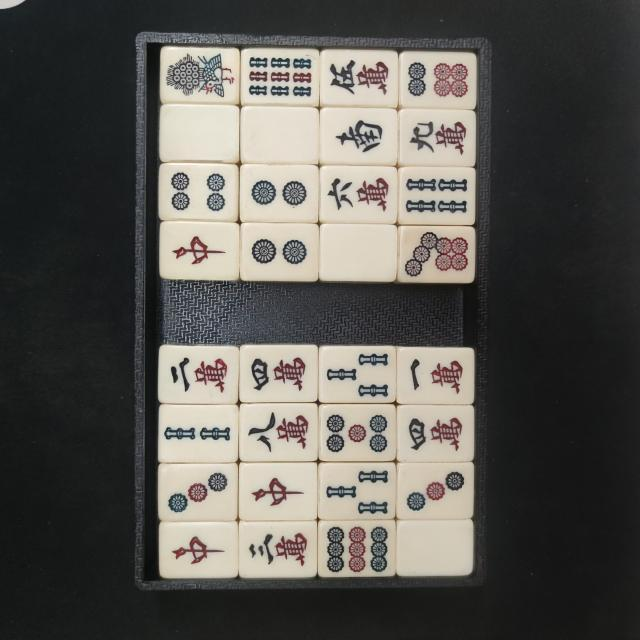hdr: (164, 226, 233, 273), (244, 470, 314, 514), (164, 527, 232, 572)
hdw: (326, 228, 393, 276), (247, 112, 315, 156), (402, 526, 467, 572), (165, 110, 232, 154)
hws: (326, 114, 391, 158)
sb1: (164, 50, 236, 100)
sb2: (162, 408, 233, 459)
sb3: (324, 348, 392, 401), (323, 466, 391, 516)
sb4: (403, 171, 471, 220)
sb9: (246, 52, 314, 100)
sc1: (402, 350, 468, 400)
sc2: (163, 350, 231, 398)
sc3: (243, 528, 312, 574)
sc4: (244, 348, 312, 396), (402, 410, 469, 457)
sc5: (324, 53, 394, 99)
sc6: (324, 170, 392, 219)
sc8: (243, 408, 314, 457)
sc9: (404, 112, 472, 160)
sd2: (245, 227, 313, 275), (245, 170, 312, 217)
sd3: (162, 467, 233, 516), (402, 466, 468, 516)
sd4: (163, 168, 231, 214)
sd5: (324, 408, 392, 457)
sd6: (405, 56, 471, 102)
sd7: (404, 228, 470, 280)
sd9: (323, 524, 391, 573)
